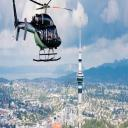helicopter: (13, 2, 74, 64)
